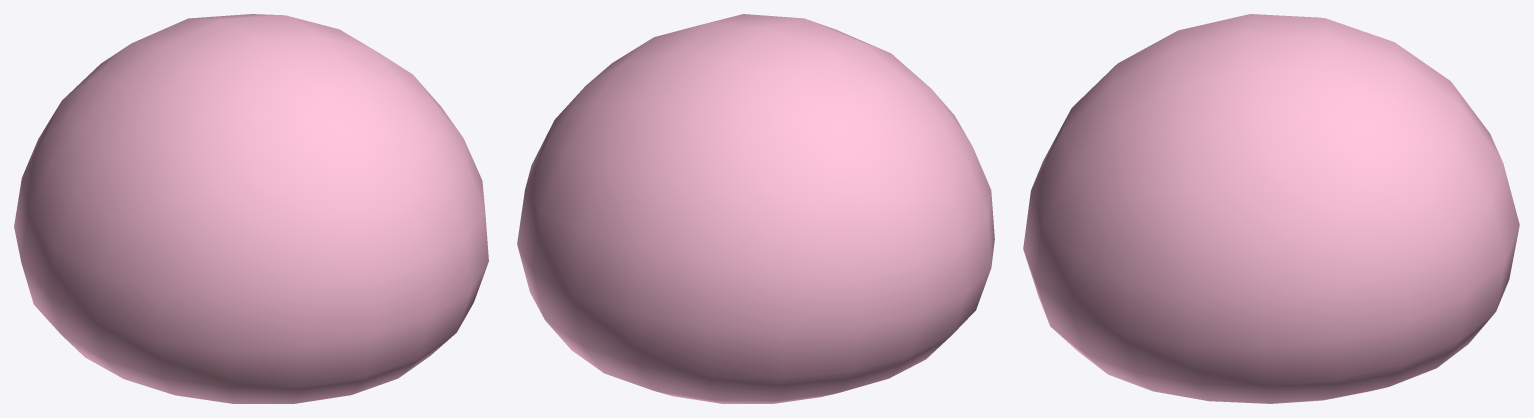
File: mochi white.FBX
3 renders of one model, left to right at view 1: azimuth 30°, elevation 25°; view 2: azimuth 150°, elevation 25°; view 3: azimuth 270°, elevation 25°, orthographic. The views are drawn at different scales.
Visible parts, largest first — view 1: PolySphere; view 2: PolySphere; view 3: PolySphere.
Part boxes in pixels (<box>): PolySphere: <box>14,14,488,403</box>; PolySphere: <box>517,14,994,403</box>; PolySphere: <box>1023,14,1519,403</box>.
Bounding box in the file's own units: 1.96 × 1.39 × 2.01.
